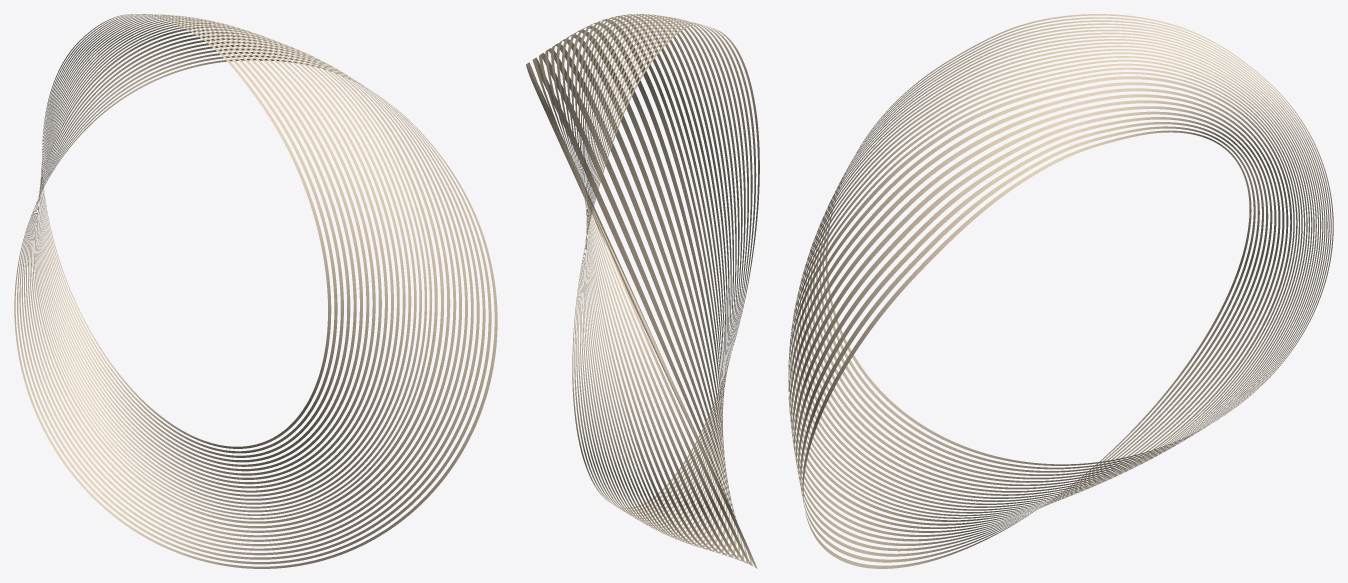
3 views of the same model, side by side, from view 1: azimuth 30°, elevation 25°; view 2: azimuth 150°, elevation 25°; view 3: azimuth 270°, elevation 25° (orthographic). The views are drawn at different scales.
Parts seen in each view (by area): view 1: Circle; view 2: Circle; view 3: Circle.
Part boxes in pixels (left/top/right/bottom): Circle: left=14, top=14, right=497, bottom=568; Circle: left=526, top=14, right=759, bottom=568; Circle: left=788, top=14, right=1333, bottom=568.
Bounding box in the file's own units: 61107 × 91764 × 83005.
